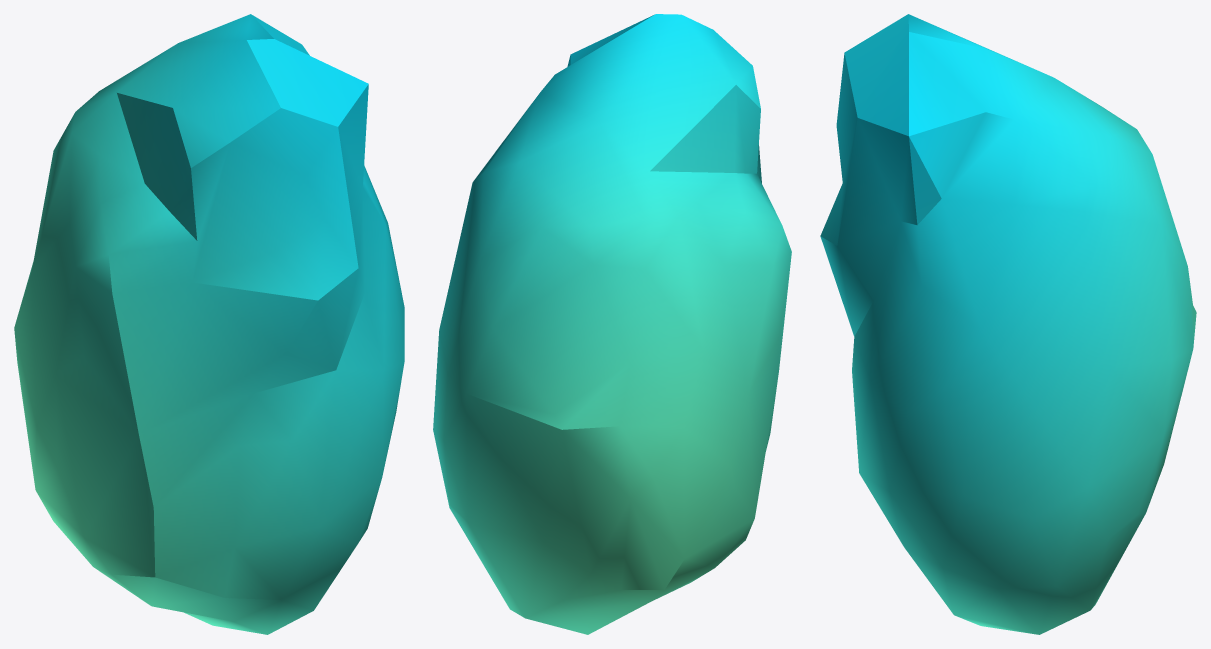
File: Celestine.fbx
3 views of the same model, side by side, from view 1: azimuth 30°, elevation 25°; view 2: azimuth 150°, elevation 25°; view 3: azimuth 270°, elevation 25° (orthographic). The views are drawn at different scales.
Visible parts, largest first — view 1: CELESTINE.001; view 2: CELESTINE.001; view 3: CELESTINE.001.
Boxes of the visible parts, x1,y1,x2,y2 form: CELESTINE.001: [14, 14, 404, 634]; CELESTINE.001: [433, 14, 791, 634]; CELESTINE.001: [820, 14, 1196, 634].
Bounding box in the file's own units: 129 × 249 × 144.
1 material, 1 textured.
